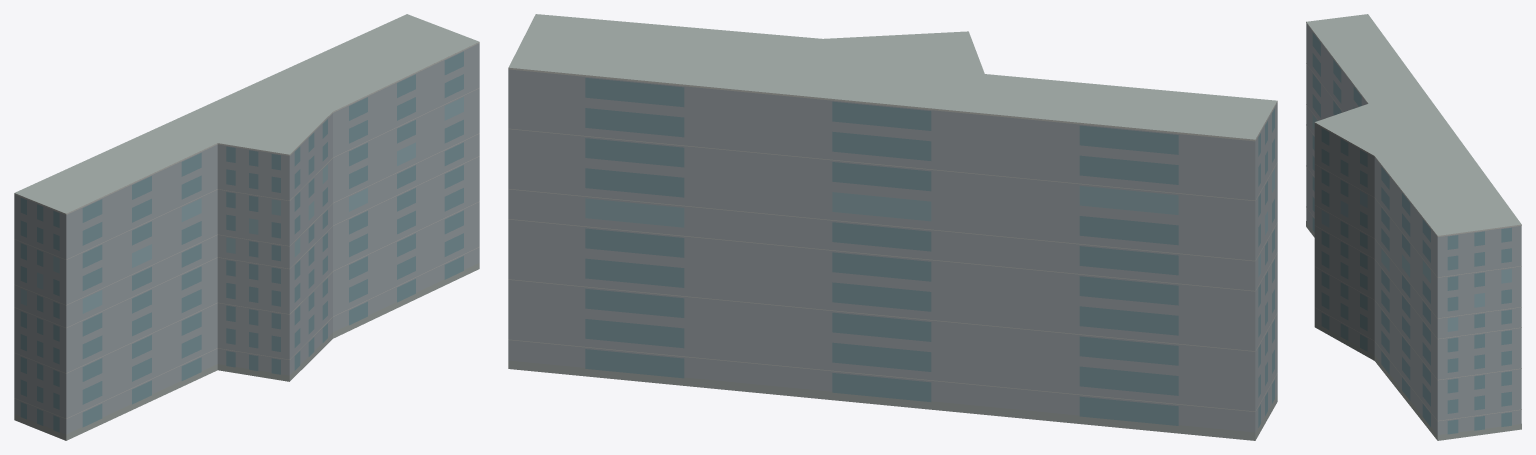
The model's file is residential-de25b041-de8d-403c-8651-6595da2edbbe.glb.
The picture shows the model from 3 angles, left to right: view 1: azimuth 30°, elevation 25°; view 2: azimuth 150°, elevation 25°; view 3: azimuth 270°, elevation 25°; orthographic projection. The views are drawn at different scales.
Visible parts, largest first — view 1: residential-de25b041-de8d-403c-8651-6595da2edbbe.tmp; view 2: residential-de25b041-de8d-403c-8651-6595da2edbbe.tmp; view 3: residential-de25b041-de8d-403c-8651-6595da2edbbe.tmp.
Boxes of the visible parts, left/top/right/bottom form: residential-de25b041-de8d-403c-8651-6595da2edbbe.tmp: left=14, top=14, right=479, bottom=440; residential-de25b041-de8d-403c-8651-6595da2edbbe.tmp: left=508, top=14, right=1277, bottom=440; residential-de25b041-de8d-403c-8651-6595da2edbbe.tmp: left=1306, top=14, right=1521, bottom=440.
Size of the model in its own units: 97.55 by 42 by 40.07.
